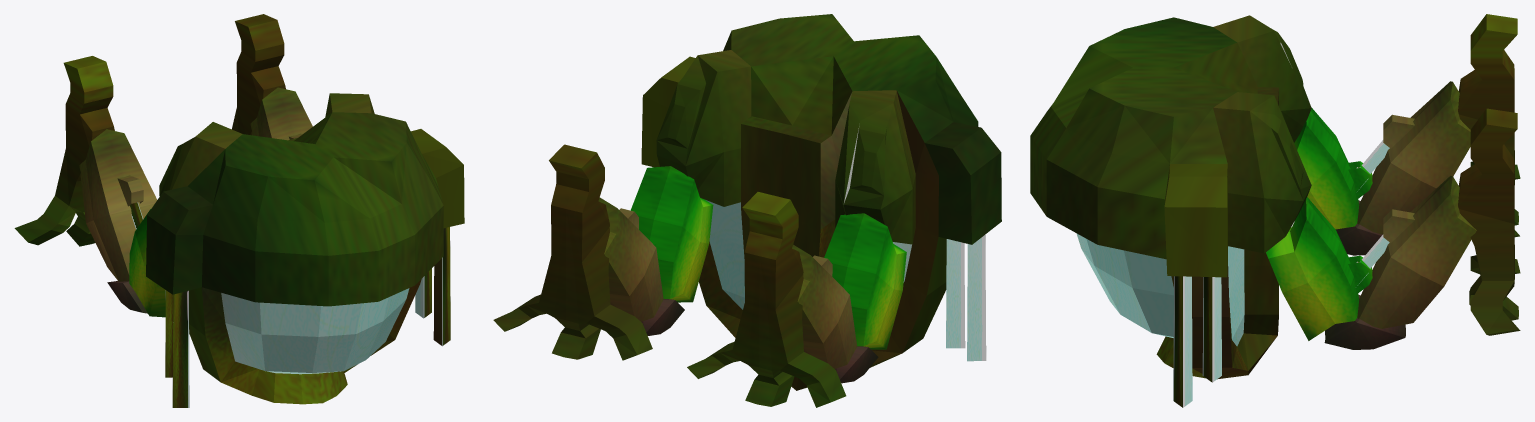
The model's file is mech688_wtf.obj.
3 views of the same model, side by side, from view 1: azimuth 30°, elevation 25°; view 2: azimuth 150°, elevation 25°; view 3: azimuth 270°, elevation 25° (orthographic). The views are drawn at different scales.
Visible parts, largest first — view 1: group1; view 2: group1; view 3: group1.
Boxes of the visible parts, bbox=[...] form: group1: bbox=[14, 14, 464, 407]; group1: bbox=[493, 14, 1001, 407]; group1: bbox=[1030, 14, 1520, 407].
Bounding box in the file's own units: 526 × 464 × 660.
